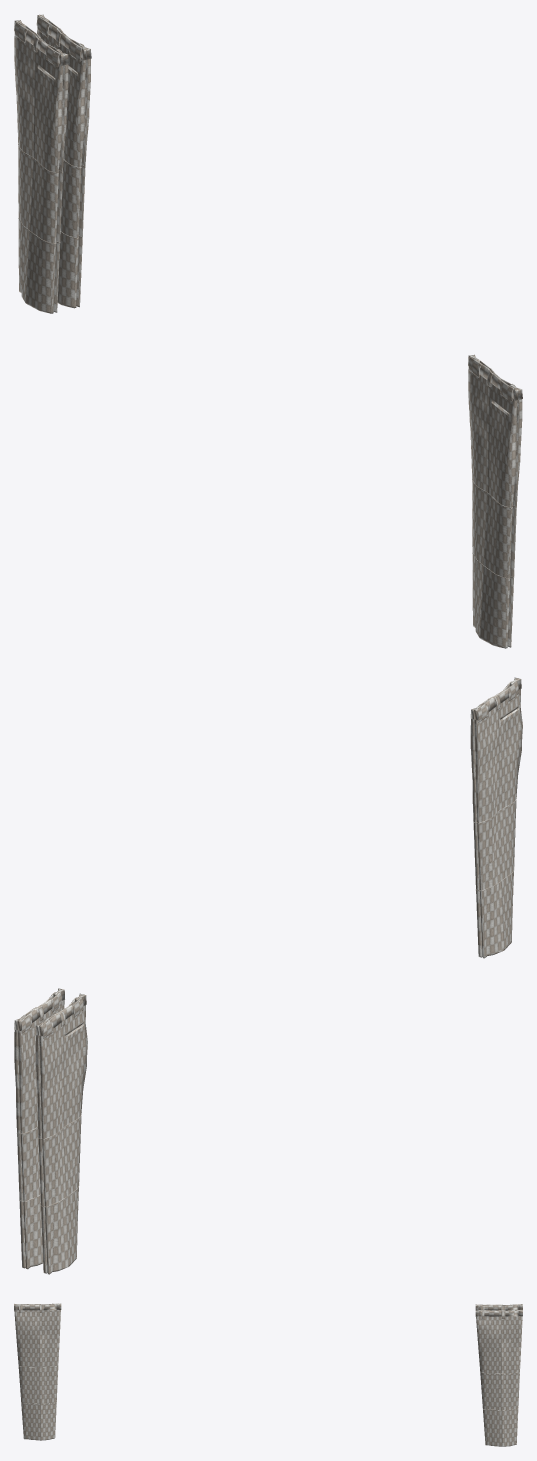
Rendered from yifu0905_kuzi02.fbx.
3 renders of one model, top to bottom at view 1: azimuth 30°, elevation 25°; view 2: azimuth 150°, elevation 25°; view 3: azimuth 270°, elevation 25°, orthographic. The views are drawn at different scales.
Visible parts, largest first — view 1: yifu0905_kuzi02; view 2: yifu0905_kuzi02; view 3: yifu0905_kuzi02.
Boxes of the visible parts, x1=… form: yifu0905_kuzi02: x1=14, y1=14, x2=522, y2=648; yifu0905_kuzi02: x1=14, y1=677, x2=522, y2=1274; yifu0905_kuzi02: x1=14, y1=1303, x2=522, y2=1446.
Bounding box in the file's own units: 18.34 × 103 × 352.
